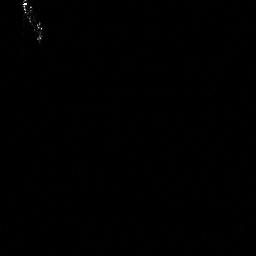ship: (21, 2, 44, 41)
